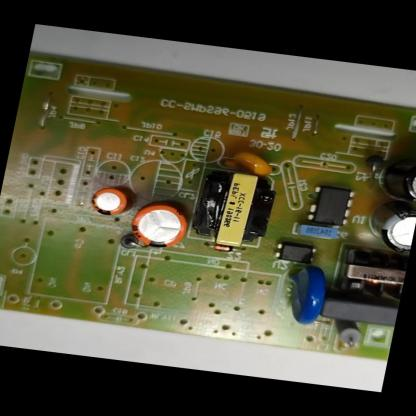Cap1: (125, 200, 194, 254)
Cap2: (85, 185, 133, 219)
Cap3: (362, 200, 416, 257)
Cap4: (379, 155, 415, 206)
MOSFET: (304, 183, 357, 228)
Mov: (274, 262, 332, 329)
Resistor: (329, 322, 368, 352)
Transformer: (189, 168, 280, 250), (331, 244, 409, 306)
